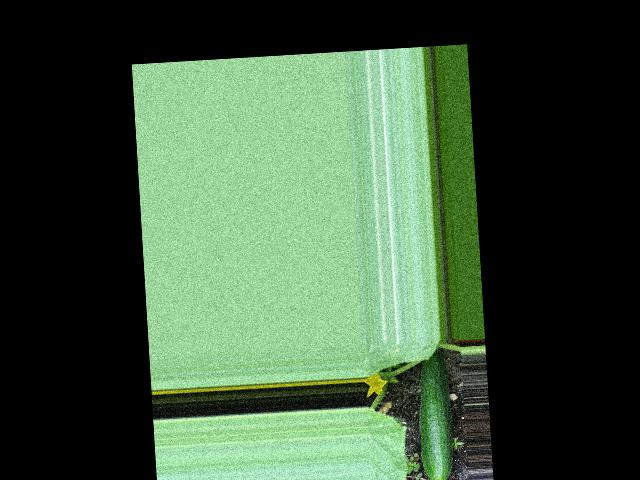cucumber: (415, 351, 456, 480)
